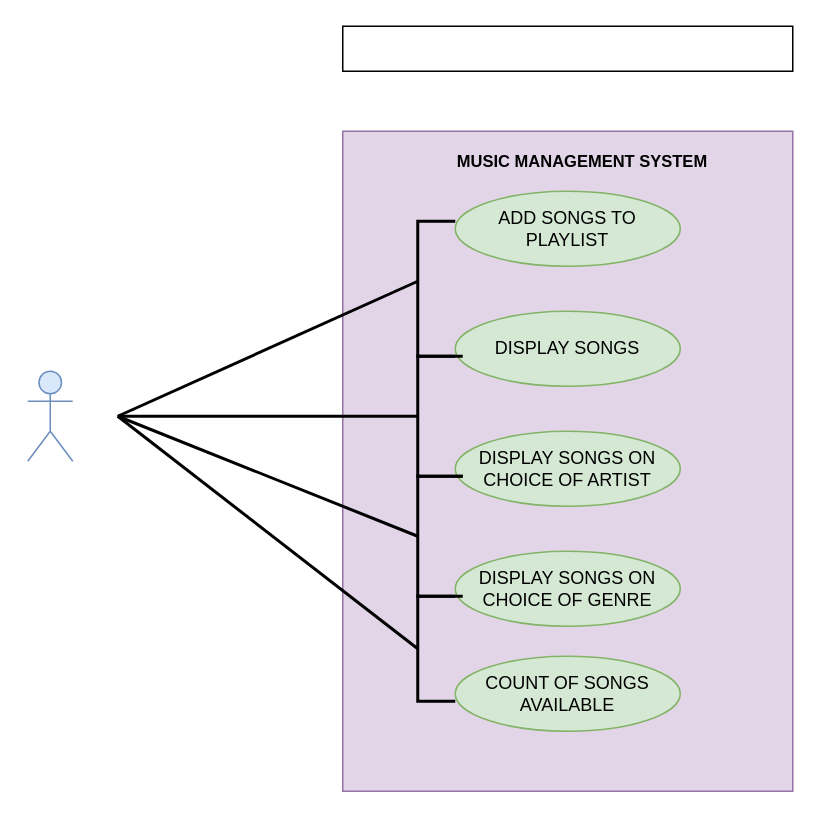
This 819x818 diagram has some shape labels left out. Each missing label, with the box of its shape:
USE CASE DIAGRAM: (341, 25, 793, 71)
USER: (26, 370, 73, 461)
